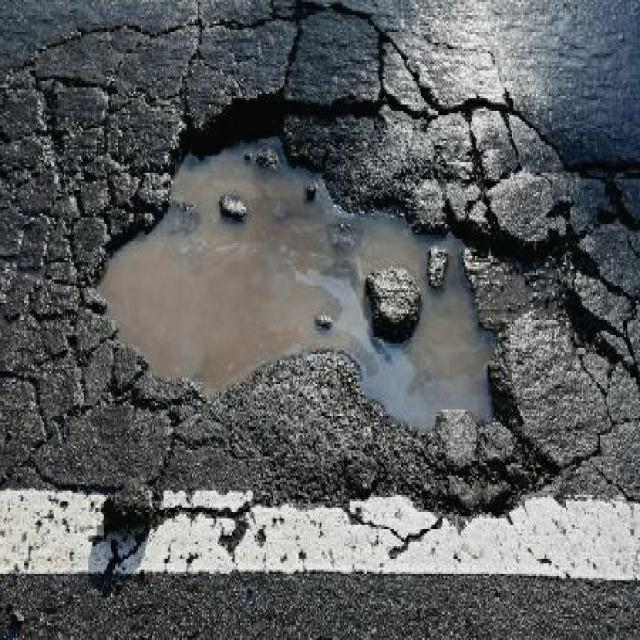Pothole: (82, 81, 565, 514)
